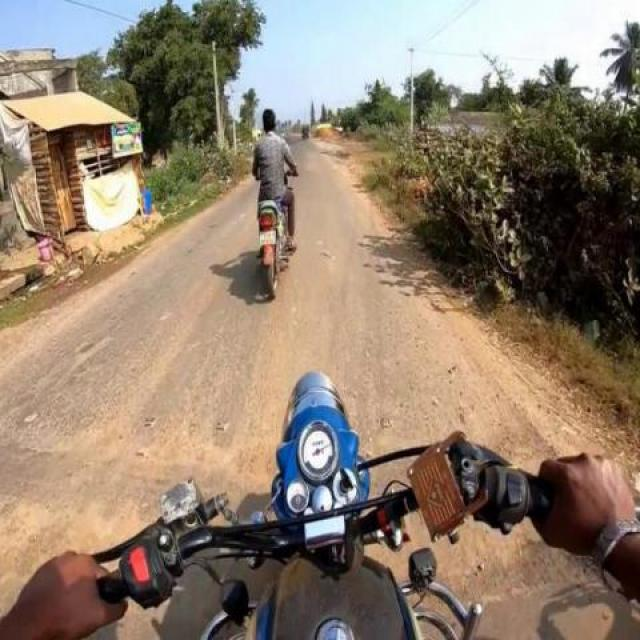Unmarked Bump: (0, 447, 163, 512)
